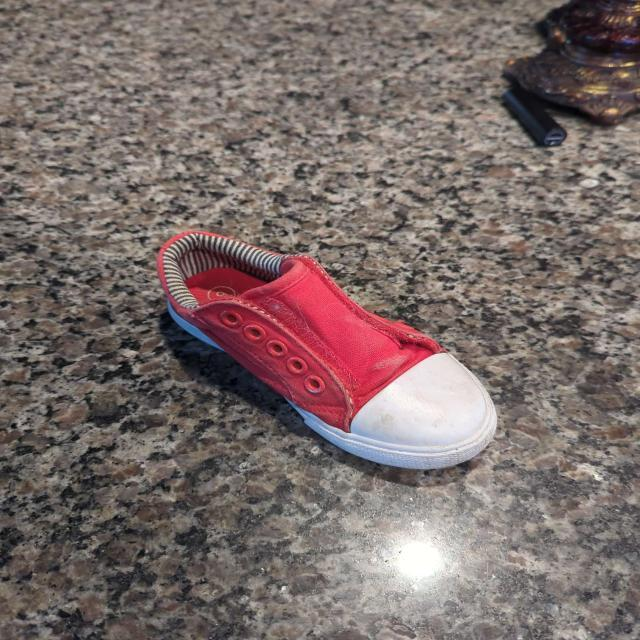shoes: (152, 226, 500, 474)
